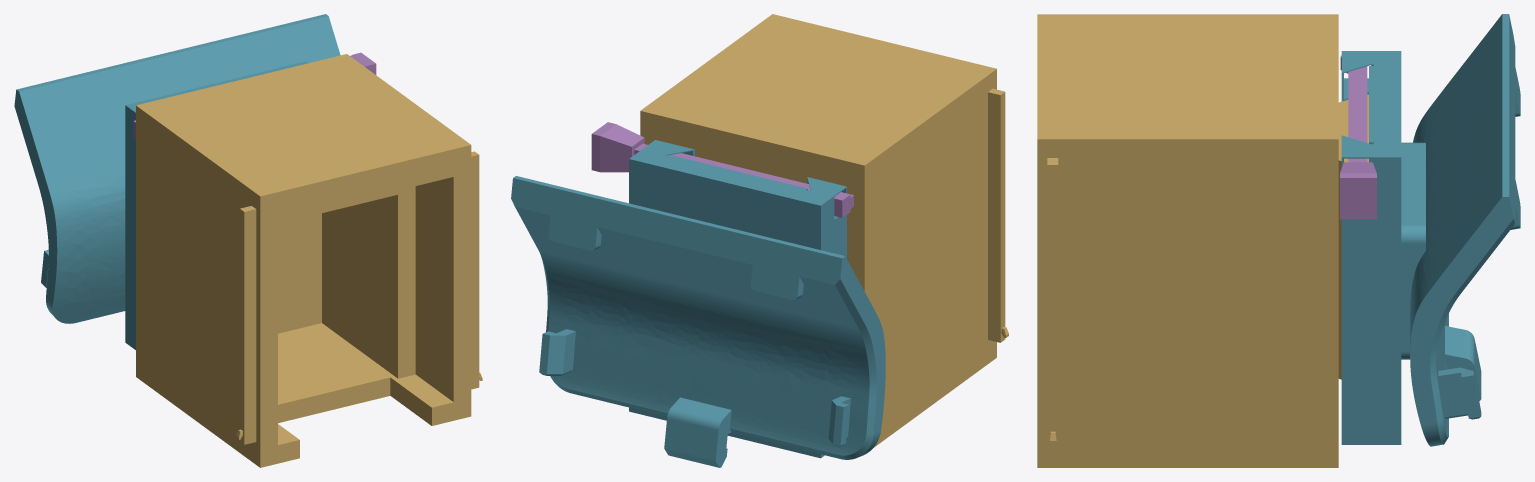
Rendered from V23_USB_Up.glb.
The picture shows the model from 3 angles, left to right: view 1: azimuth 30°, elevation 25°; view 2: azimuth 150°, elevation 25°; view 3: azimuth 270°, elevation 25°; orthographic projection. The views are drawn at different scales.
Visible parts, largest first — view 1: Box_2, Vader_mount; view 2: Vader_mount, Box_2, Lock_key; view 3: Box_2, Vader_mount, Lock_key.
Boxes of the visible parts, <box> form: Box_2: <box>136,54,482,467</box>; Vader_mount: <box>14,14,340,349</box>; Vader_mount: <box>511,140,885,467</box>; Box_2: <box>640,14,1008,447</box>; Lock_key: <box>591,122,853,217</box>; Box_2: <box>1037,14,1368,467</box>; Vader_mount: <box>1341,14,1520,446</box>; Lock_key: <box>1340,55,1376,219</box>.
Size of the model in its own units: 35.2 by 29.5 by 39.28.
